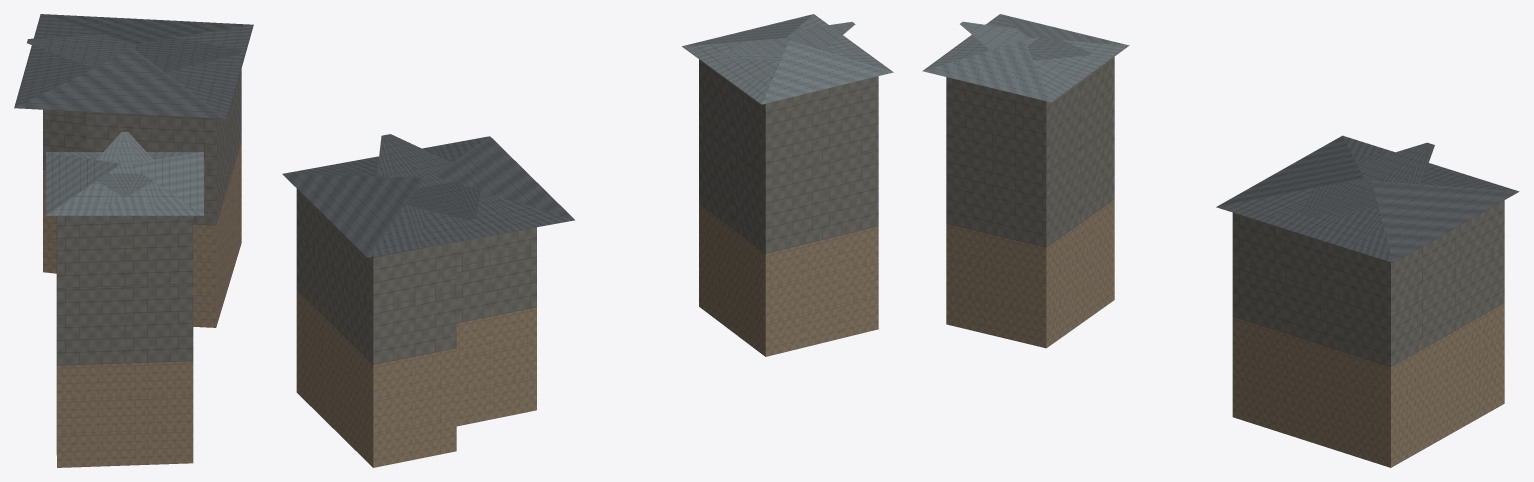
The model's file is bld_c22_45_393.gltf.
3 views of the same model, side by side, from view 1: azimuth 30°, elevation 25°; view 2: azimuth 150°, elevation 25°; view 3: azimuth 270°, elevation 25° (orthographic). The views are drawn at different scales.
Parts seen in each view (by area): view 1: bld_c22_45_393; view 2: bld_c22_45_393; view 3: bld_c22_45_393.
Boxes of the visible parts, box(x1,y1,x2,y2) form: bld_c22_45_393: box(14, 14, 253, 467); bld_c22_45_393: box(282, 14, 893, 467); bld_c22_45_393: box(922, 14, 1519, 467).
Bounding box in the file's own units: 21.28 × 14.4 × 27.43.
4 materials, 4 textured.
